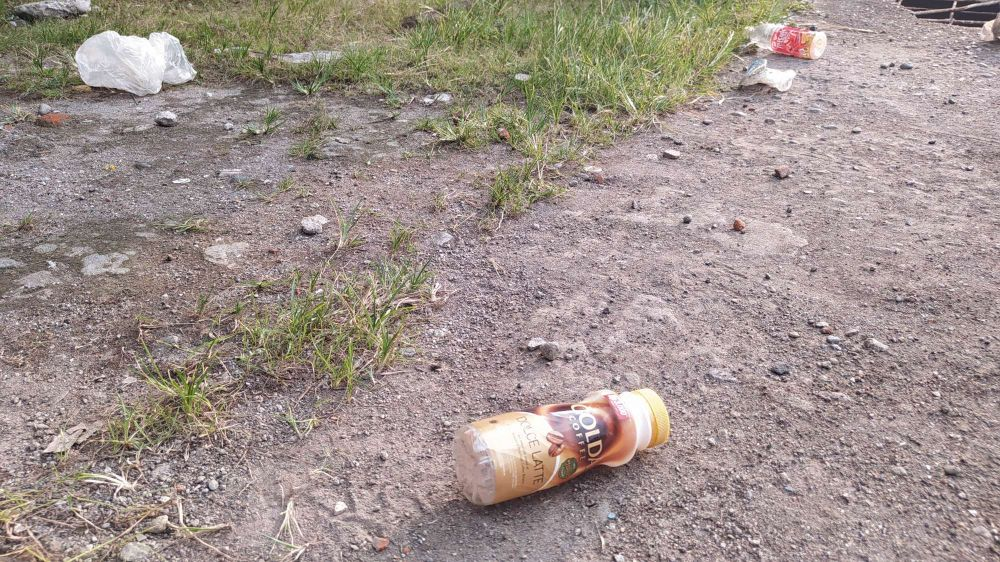botol: (443, 385, 670, 510), (739, 19, 826, 64)
plastik: (67, 27, 238, 100)
